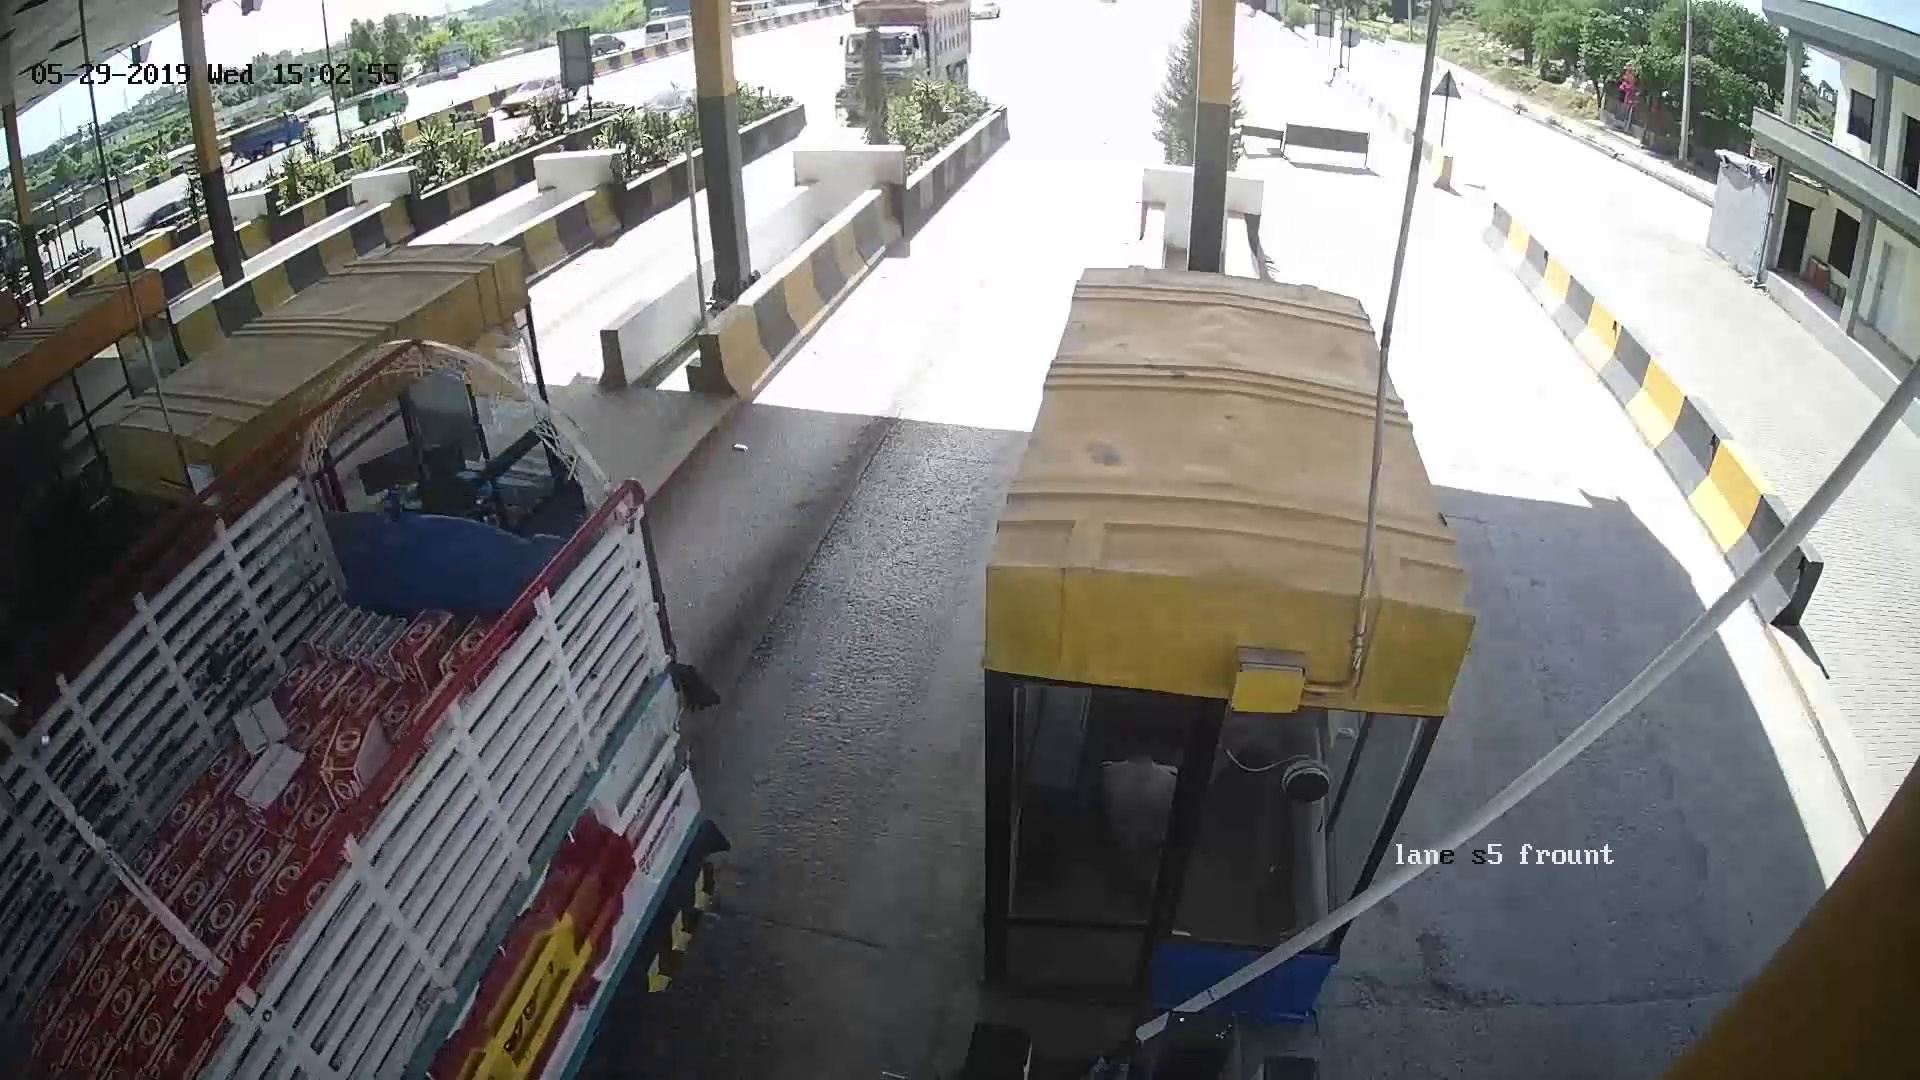truck: (145, 529, 651, 1035)
